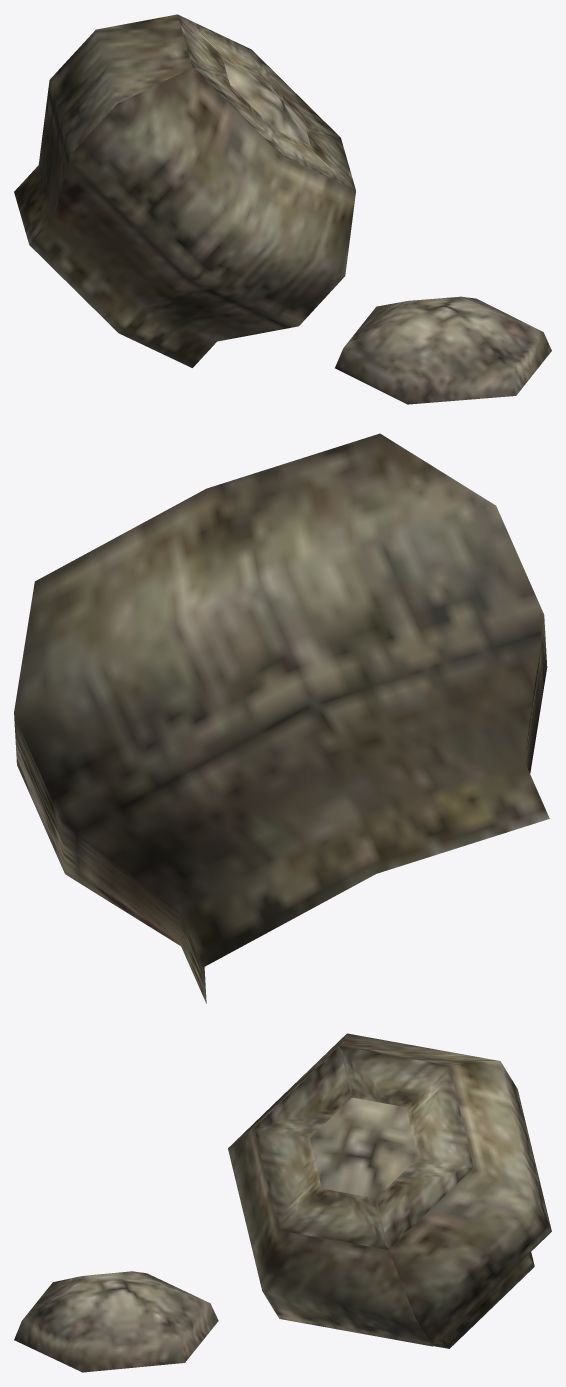
The model's file is ruin_takla_tent05_01.glb.
3 renders of one model, top to bottom at view 1: azimuth 30°, elevation 25°; view 2: azimuth 150°, elevation 25°; view 3: azimuth 270°, elevation 25°, orthographic. The views are drawn at different scales.
Visible parts, largest first — view 1: ruin_takla_tent05_01; view 2: ruin_takla_tent05_01; view 3: ruin_takla_tent05_01.
Boxes of the visible parts, x1,y1,x2,y2 form: ruin_takla_tent05_01: (14, 14, 551, 404); ruin_takla_tent05_01: (14, 433, 549, 1003); ruin_takla_tent05_01: (14, 1033, 551, 1372).
Size of the model in its own units: 0.9814 by 0.7966 by 1.37.
1 material, 1 textured.
